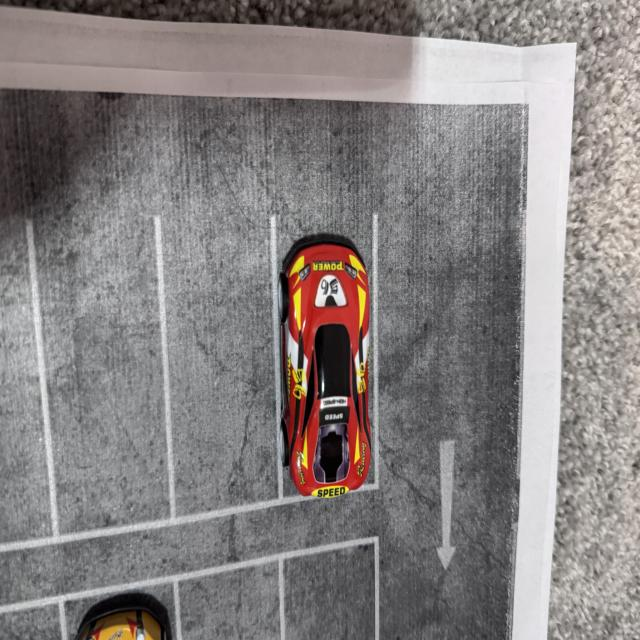Car: (268, 216, 411, 564)
